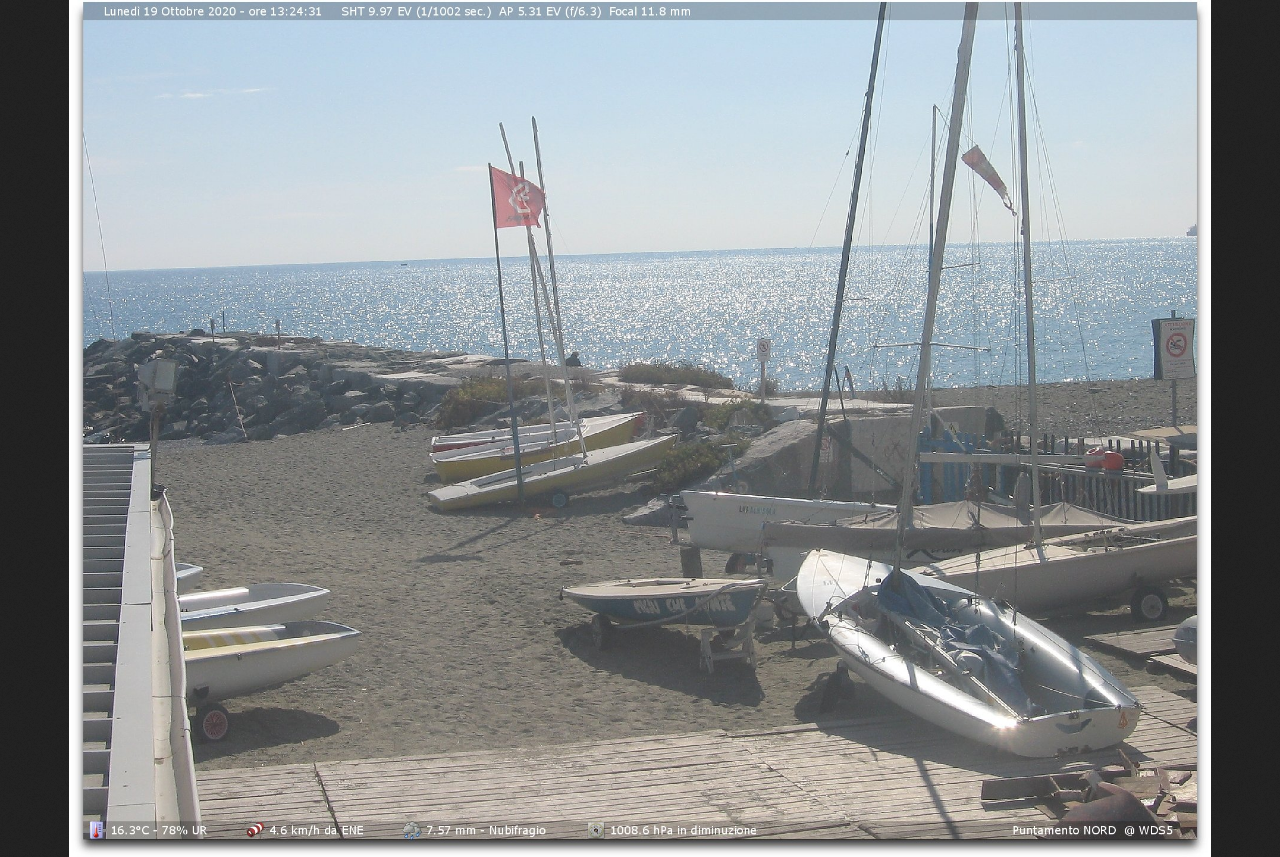yes: (483, 162, 557, 233)
